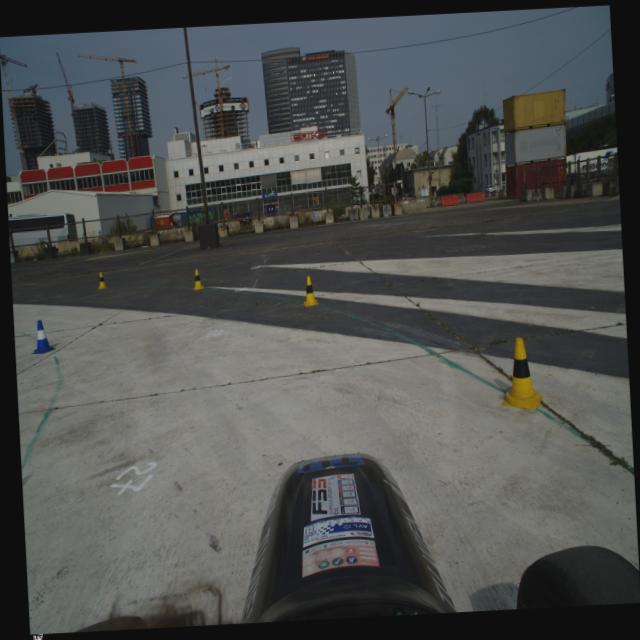blue_cone: (29, 320, 56, 354)
yellow_cone: (498, 336, 544, 411), (302, 276, 320, 306), (192, 269, 206, 291), (97, 272, 108, 290)
